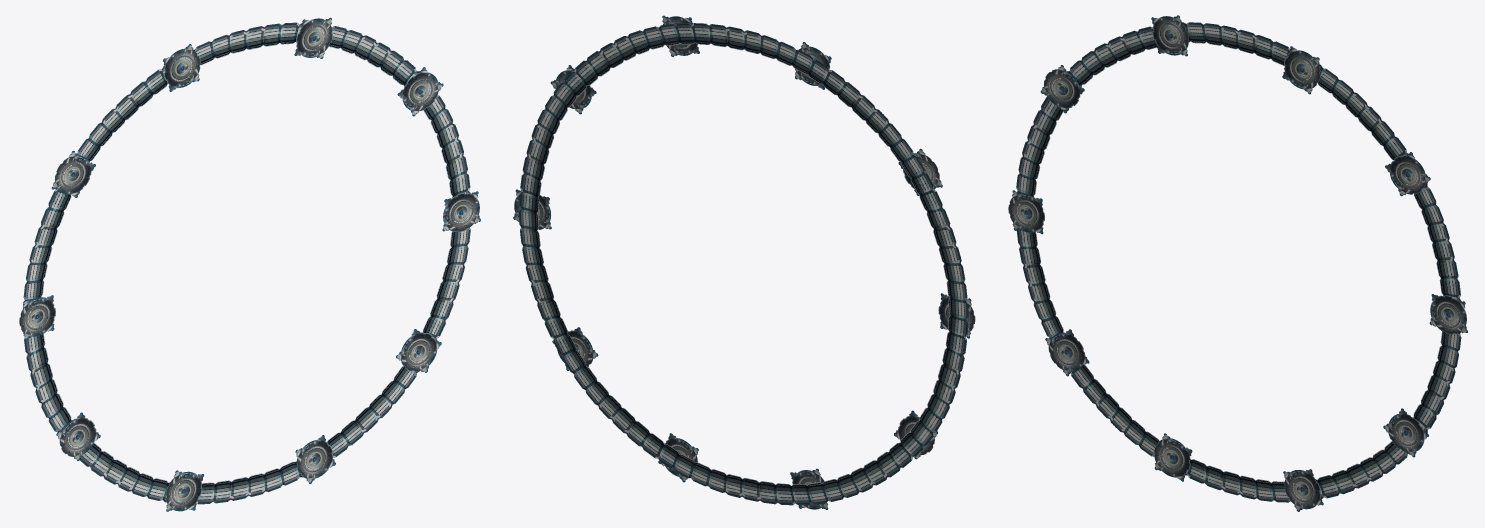
The model's file is Centipede_EnemyRing_Inner.fbx.
3 views of the same model, side by side, from view 1: azimuth 30°, elevation 25°; view 2: azimuth 150°, elevation 25°; view 3: azimuth 330°, elevation 25° (orthographic).
Visible parts, largest first — view 1: polySurface12, polySurface4, polySurface5, polySurface13, polySurface11, polySurface8, polySurface10, polySurface6, polySurface7, polySurface9, pPlane20, pPlane14 (+8 smaller); view 2: polySurface12, polySurface11, polySurface5, polySurface10, polySurface4, polySurface8, polySurface6, polySurface9, polySurface7, polySurface13, pPlane16, pPlane15 (+8 smaller); view 3: polySurface11, polySurface12, polySurface13, polySurface10, polySurface9, polySurface4, polySurface8, polySurface5, polySurface7, polySurface6, pPlane20, pPlane12 (+8 smaller).
Boxes of the visible parts, x1,y1,x2,y2 form: polySurface12: (193, 22, 302, 65); polySurface4: (77, 65, 167, 161); polySurface5: (23, 189, 71, 308); polySurface13: (329, 26, 419, 86); polySurface11: (423, 95, 470, 198); polySurface8: (196, 461, 302, 504); polySurface10: (423, 228, 470, 340); polySurface6: (23, 333, 72, 432); polySurface7: (80, 443, 169, 502); polySurface9: (327, 366, 419, 457); pPlane20: (19, 295, 55, 340); pPlane14: (397, 67, 443, 116); polySurface12: (674, 23, 812, 74); polySurface11: (519, 82, 576, 212); polySurface5: (911, 171, 968, 319); polySurface10: (519, 209, 576, 356); polySurface4: (808, 59, 924, 178); polySurface8: (674, 454, 811, 505); polySurface6: (910, 315, 968, 445); polySurface9: (563, 350, 678, 468); polySurface7: (807, 432, 923, 504); polySurface13: (563, 24, 679, 95); pPlane16: (552, 327, 598, 370); pPlane15: (513, 189, 551, 229); polySurface11: (1414, 183, 1461, 300); polySurface12: (1181, 22, 1289, 65); polySurface13: (1317, 64, 1408, 160); polySurface10: (1413, 331, 1461, 433); polySurface9: (1316, 441, 1408, 498); polySurface4: (1067, 26, 1157, 86); polySurface8: (1184, 459, 1290, 502); polySurface5: (1016, 96, 1063, 196); polySurface7: (1071, 364, 1159, 456); polySurface6: (1016, 229, 1063, 337); pPlane20: (1008, 190, 1044, 234); pPlane12: (1151, 15, 1188, 56).
Size of the model in its own units: 23.58 by 23.58 by 0.1534.
Materials: 2 (2 with a texture image).
